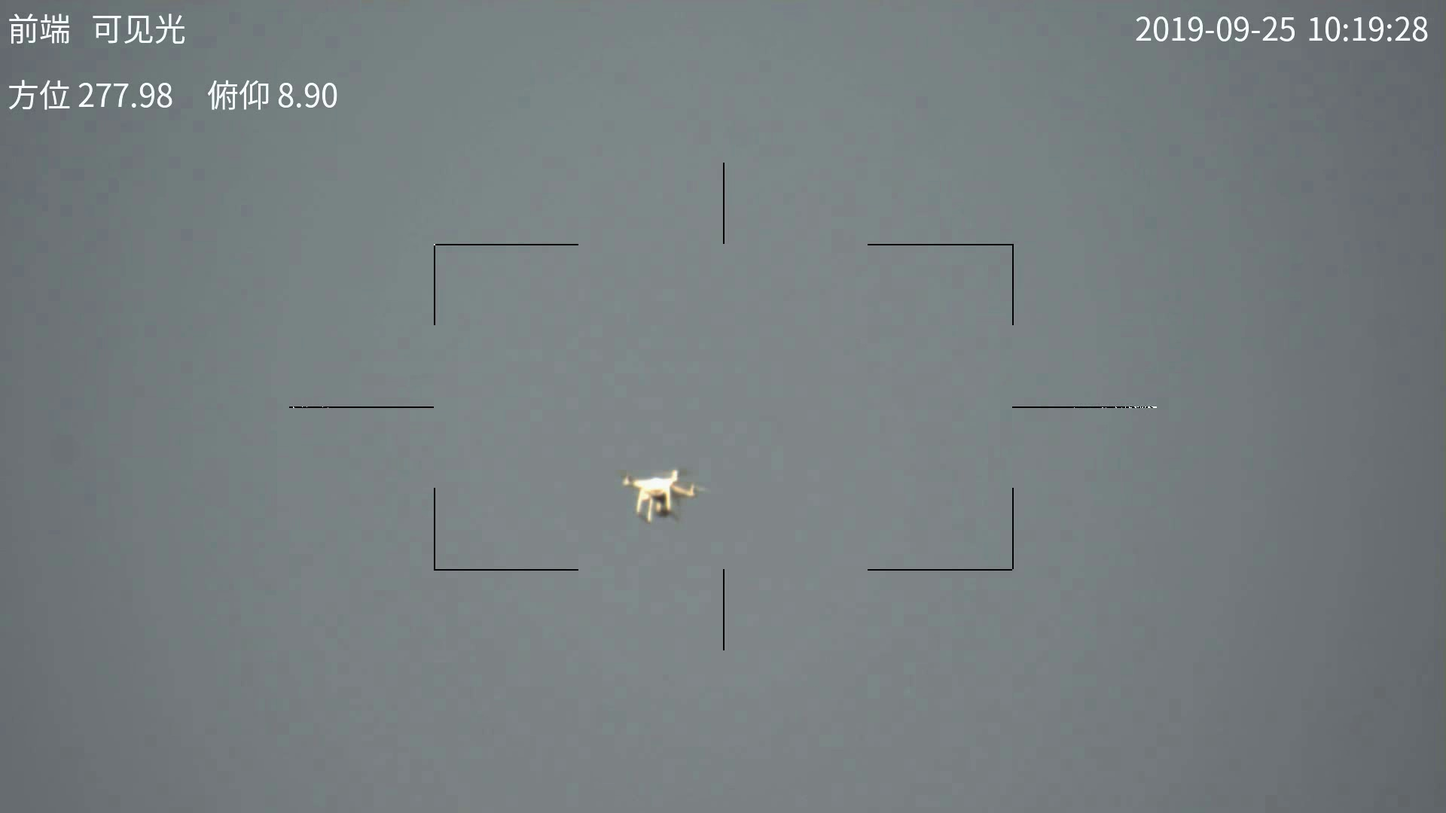drone_other: (602, 470, 721, 520)
